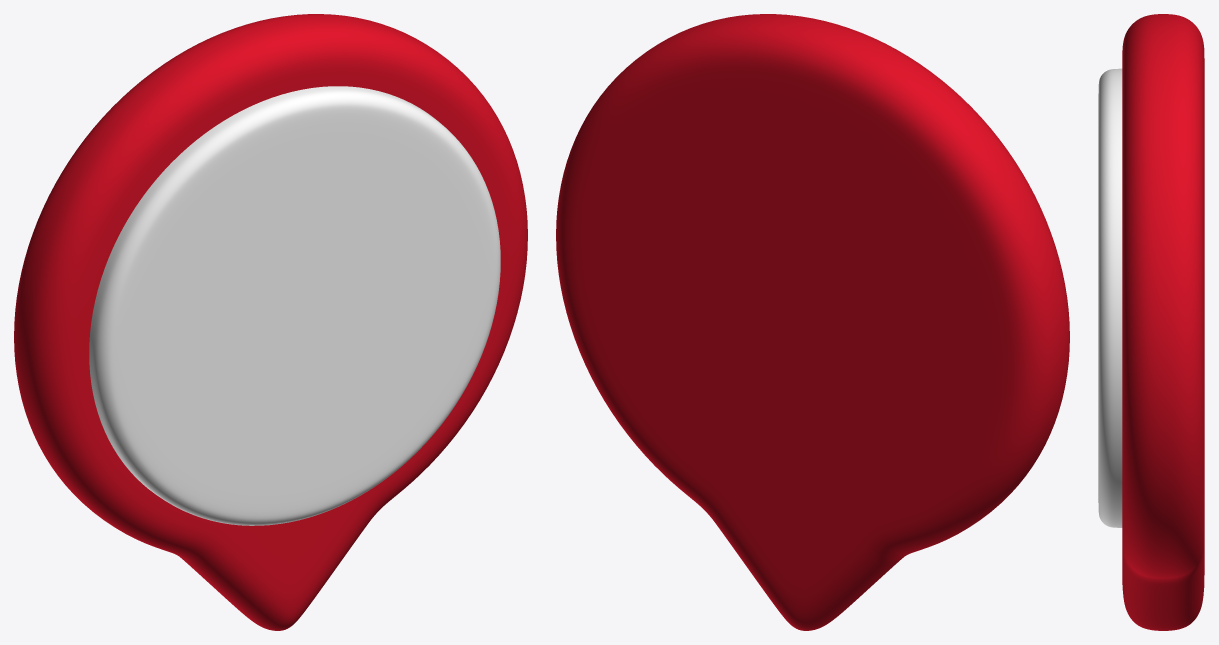
Rendered from pin.glb.
The picture shows the model from 3 angles, left to right: view 1: azimuth 30°, elevation 25°; view 2: azimuth 150°, elevation 25°; view 3: azimuth 270°, elevation 25°; orthographic projection. The views are drawn at different scales.
Visible parts, largest first — view 1: Circle.004; view 2: Circle.004; view 3: Circle.004.
Part boxes in pixels (bbox=[...]): Circle.004: bbox=[14, 14, 527, 630]; Circle.004: bbox=[556, 14, 1069, 630]; Circle.004: bbox=[1098, 14, 1204, 630].
Bounding box in the file's own units: 0.2903 × 0.3341 × 0.0547.
